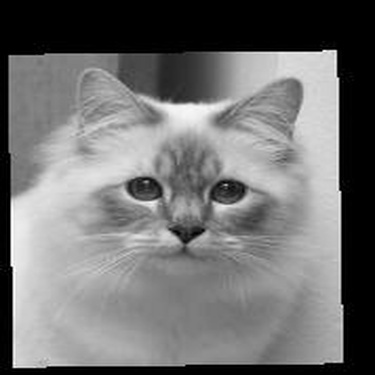cat: (15, 67, 307, 352)
